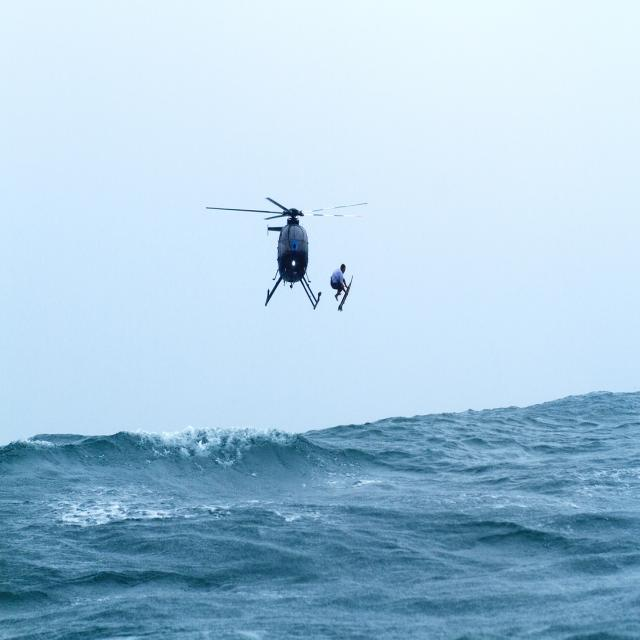helicopter: (205, 184, 375, 323)
